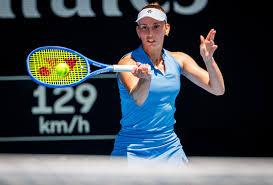ball_tennis: (56, 63, 69, 76)
